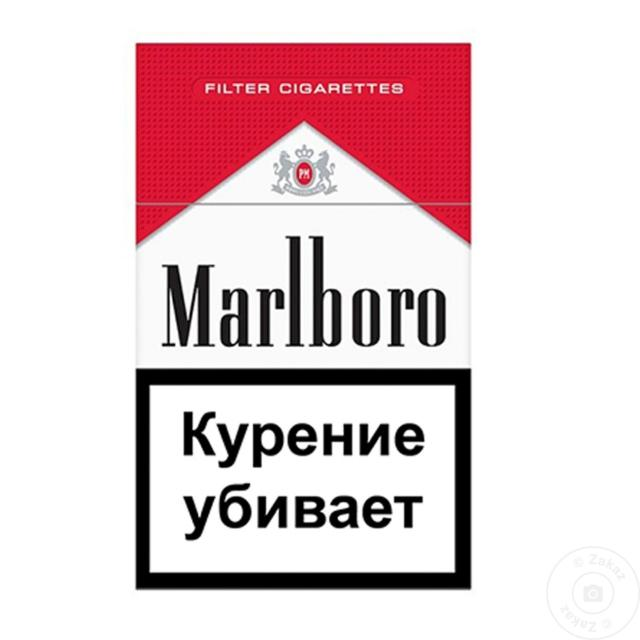marlboro: (129, 34, 483, 598)
